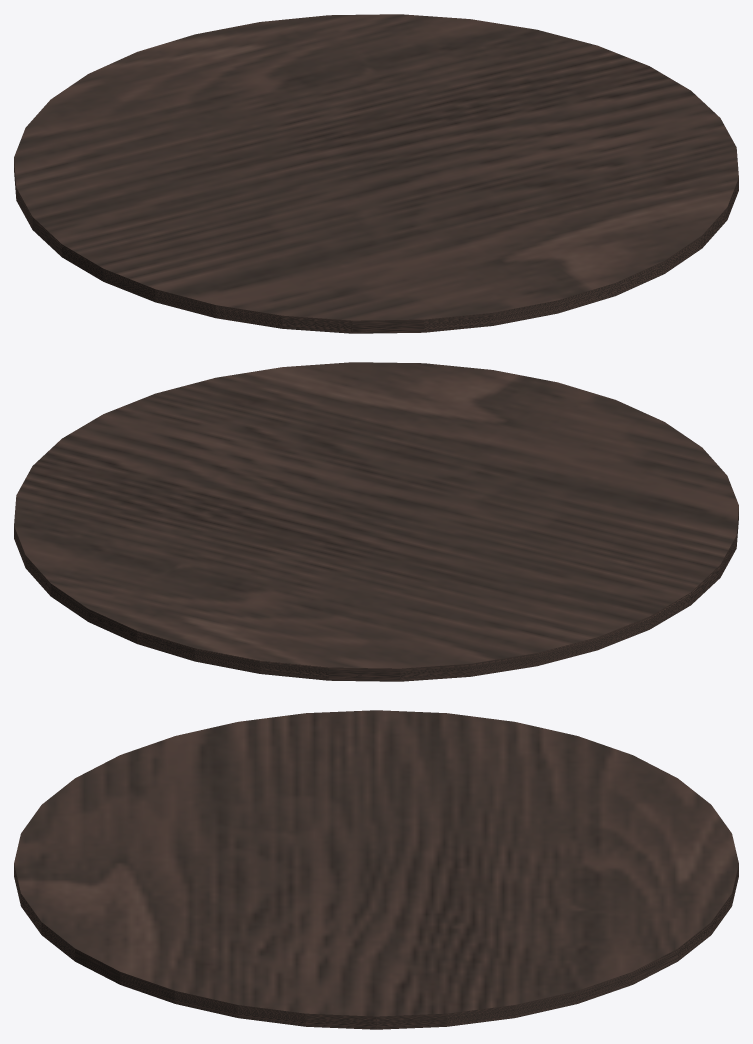
Rendered from counter.obj.
The picture shows the model from 3 angles, top to bottom: view 1: azimuth 30°, elevation 25°; view 2: azimuth 150°, elevation 25°; view 3: azimuth 270°, elevation 25°; orthographic projection.
Parts seen in each view (by area): view 1: Cylinder; view 2: Cylinder; view 3: Cylinder.
Part boxes in pixels (bbox=[...]): Cylinder: bbox=[14, 14, 738, 333]; Cylinder: bbox=[14, 362, 738, 681]; Cylinder: bbox=[14, 710, 738, 1029].
Bounding box in the file's own units: 1.54 × 0.0307 × 1.54.
1 material, 1 textured.
